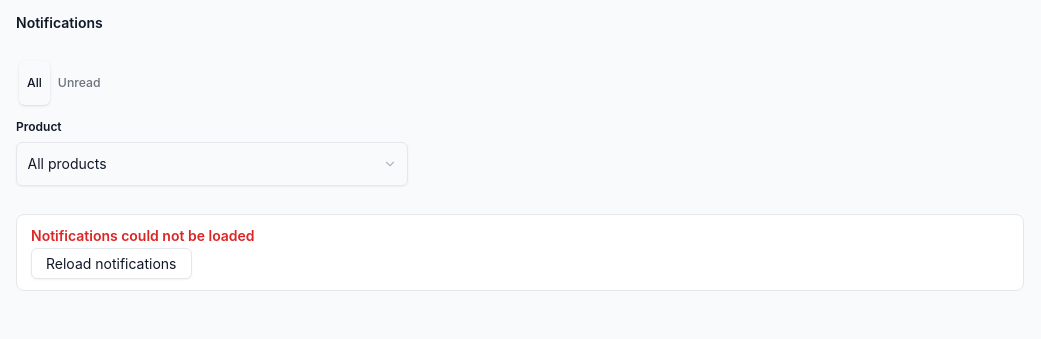
Test case: NotificationCenterPage › keeps filters usable after an initial failure and retries in place
This screenshot has width=1041, height=339.
Check: the message shows "Notifications could not be loaded", box [31,227,255,244]
Check: the tab "All" is shown, box [19,61,50,105]
Click the button "Reload notifications" at (111, 264), box [31,248,192,279]
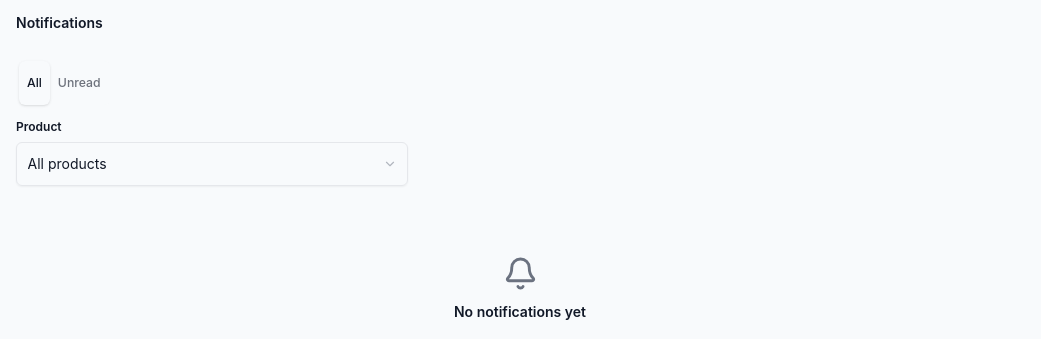
Check: the heading "No notifications yet" is shown, box [454,301,586,322]
